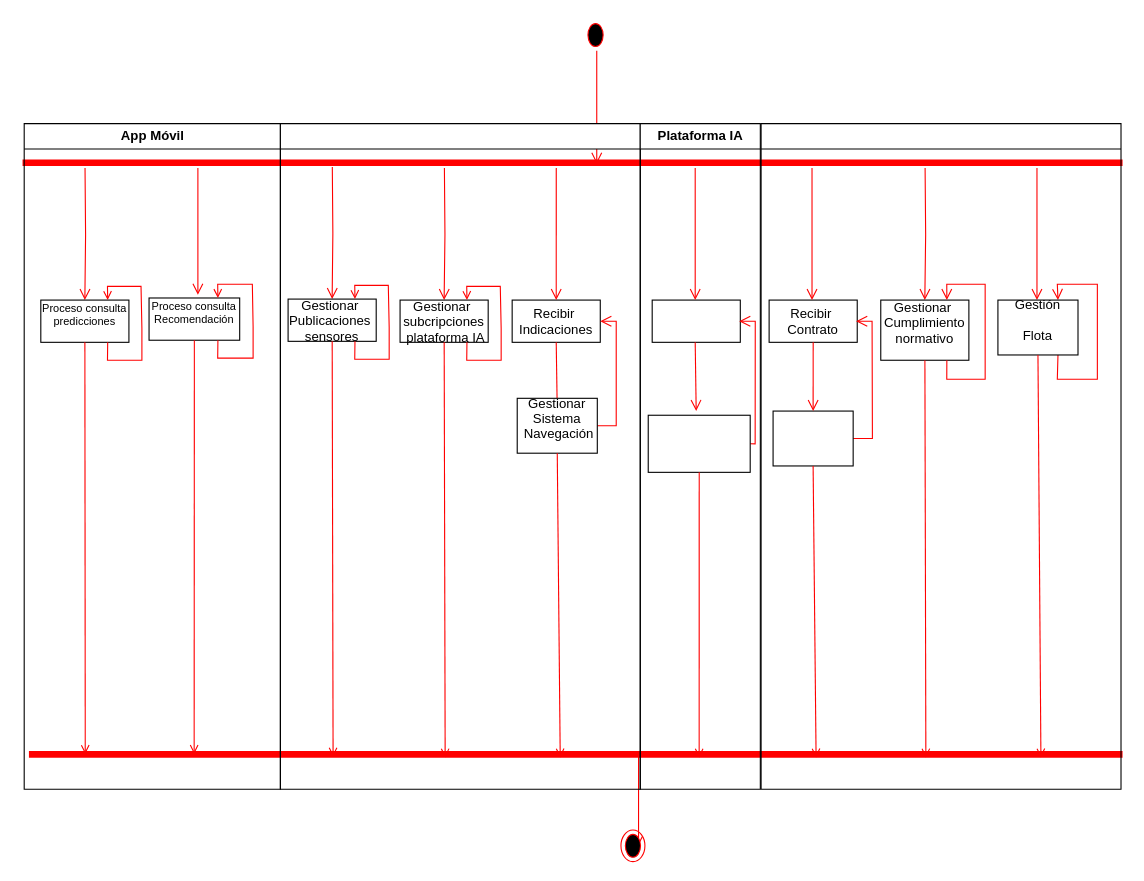
Some shapes in this 1144 by 881 pixel diagram are drawn without their labels. The shapes that lost their labels are listed below. From the top down, each one's box as (x1, y1, x2, y2) in pixels, then its label:
(651, 299, 740, 342): Recibir Subcripción
(279, 123, 640, 789): ControladorBuque
(647, 414, 750, 472): Gestionar Predicciones Recomendación
(772, 410, 853, 466): Gestionar Ruta
(760, 123, 1121, 789): Operador
